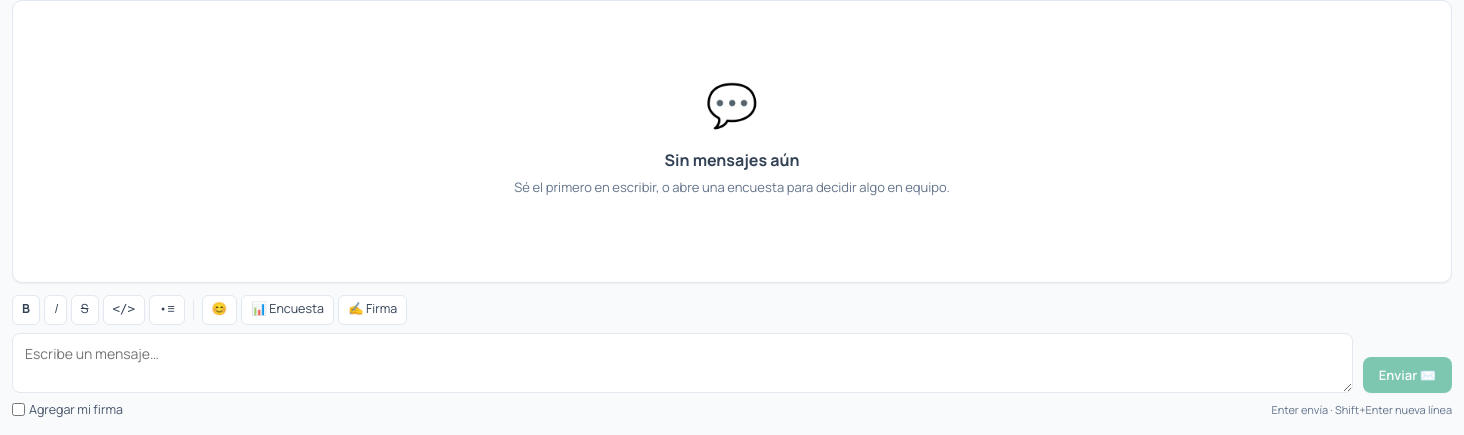
Test: ChatProyecto › should wrap the selection in bold from the toolbar
Type "Hay clase" into the text box labelled "mensaje" at (682, 362), box [12,332,1353,392]
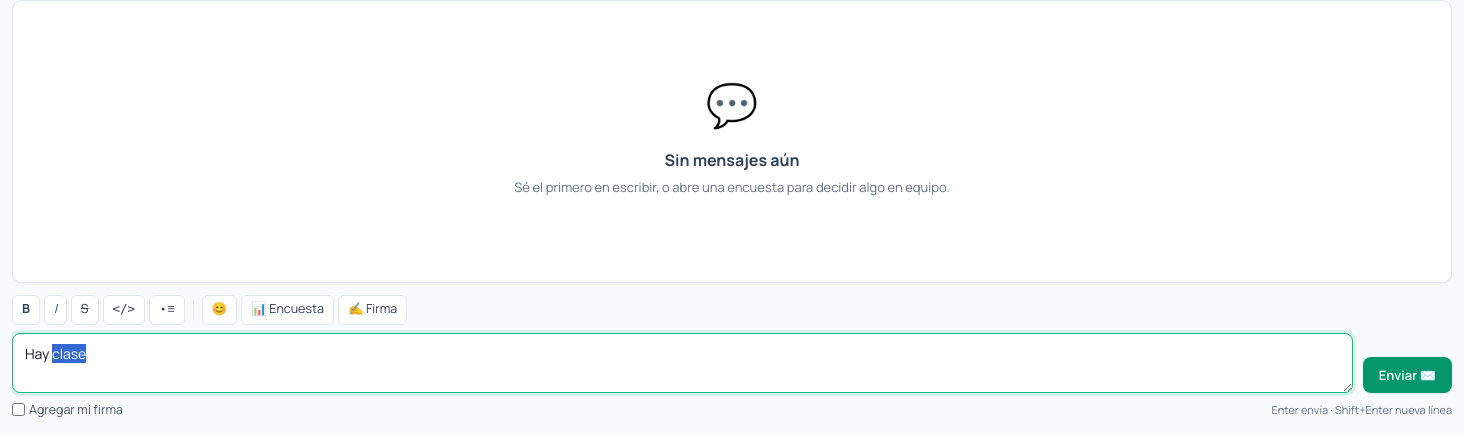
Click the button named "Negrita" at (26, 310), box [12,294,40,324]
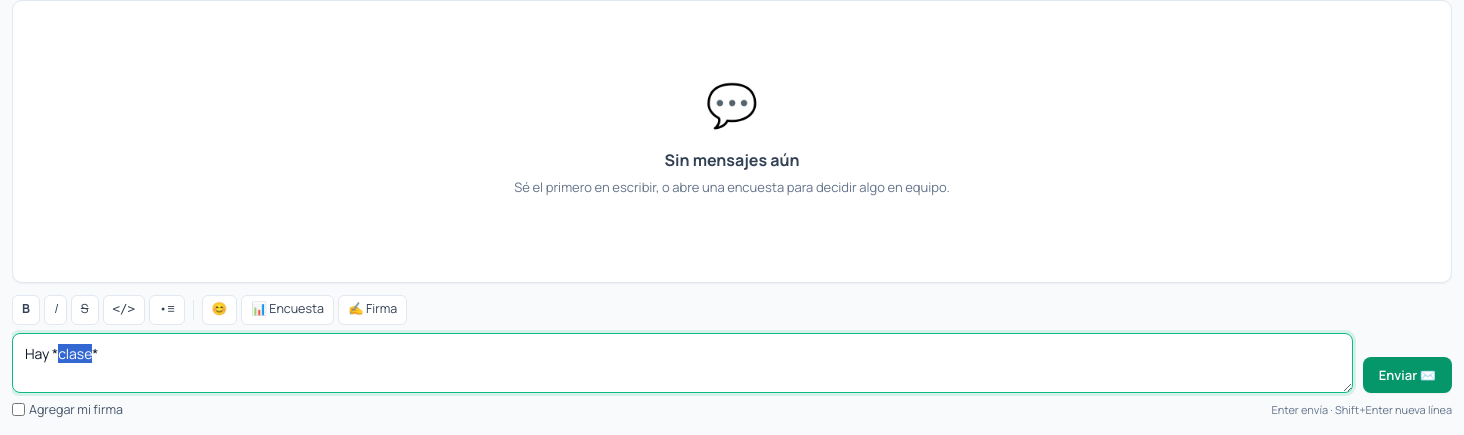
Check: the text box named "mensaje" holds "Hay *clase*", box [12,332,1353,392]
